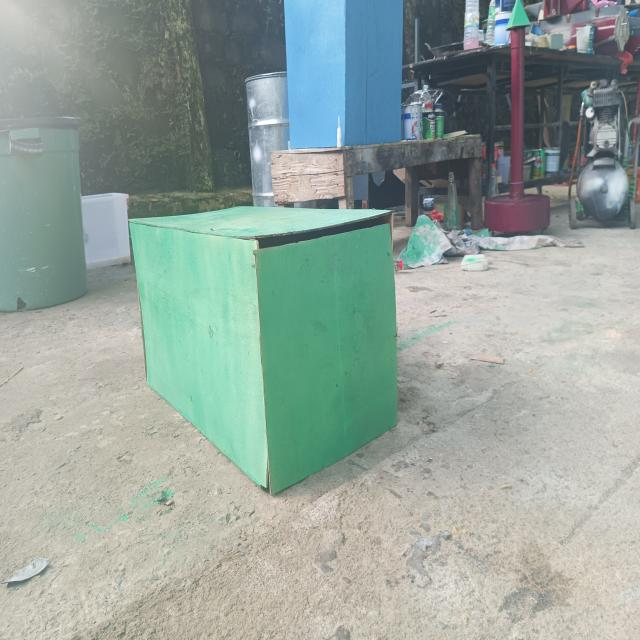green_box: (119, 170, 422, 532)
